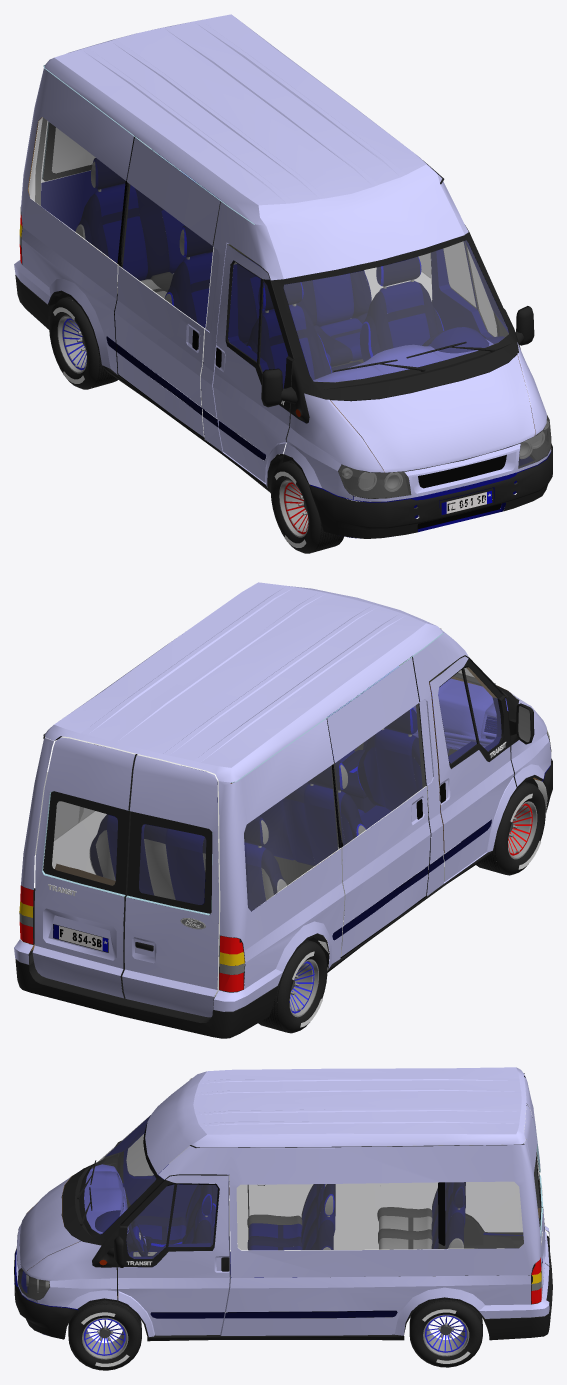
The model's file is che2_d.glb.
3 renders of one model, top to bottom at view 1: azimuth 30°, elevation 25°; view 2: azimuth 150°, elevation 25°; view 3: azimuth 270°, elevation 25°, orthographic. The views are drawn at different scales.
Visible parts, largest first — view 1: Modified Ford Transit, Komponenta#1, tire#1 (×2), ske1989, priborka, litjo1 (×2), Komponenta#2, Plaque d'immatriculation; view 2: Modified Ford Transit, Komponenta#1, tire#1 (×2), ske1989, priborka, ford transit minibus, litjo1 (×2), Komponenta#2, Plaque d'immatriculation; view 3: Modified Ford Transit, ford transit minibus, tire#1 (×2), Komponenta#1, priborka, ske1989, litjo1 (×2), Komponenta#2, rul.
Part boxes in pixels (<box>): Modified Ford Transit: <box>14,14,552,538</box>; Komponenta#1: <box>164,225,443,366</box>; tire#1 (×2): <box>49,296,343,553</box>; ske1989: <box>246,279,331,388</box>; priborka: <box>304,327,504,422</box>; litjo1 (×2): <box>57,315,308,537</box>; Komponenta#2: <box>62,318,308,534</box>; Plaque d'immatriculation: <box>441,490,492,515</box>; Modified Ford Transit: <box>14,582,552,1038</box>; Komponenta#1: <box>217,746,366,865</box>; tire#1 (×2): <box>258,782,545,1033</box>; ske1989: <box>357,707,441,814</box>; priborka: <box>341,666,508,829</box>; ford transit minibus: <box>21,738,94,889</box>; litjo1 (×2): <box>289,801,537,1017</box>; Komponenta#2: <box>289,803,532,1013</box>; Plaque d'immatriculation: <box>53,924,108,952</box>; Modified Ford Transit: <box>14,1067,552,1341</box>; ford transit minibus: <box>158,1140,540,1277</box>; tire#1 (×2): <box>68,1299,482,1370</box>; Komponenta#1: <box>138,1184,335,1277</box>; priborka: <box>84,1164,231,1277</box>; ske1989: <box>131,1184,217,1251</box>; litjo1 (×2): <box>82,1314,469,1359</box>; Komponenta#2: <box>84,1315,466,1355</box>; rul: <box>126,1219,147,1256</box>.
Size of the model in its own units: 2.25 by 2.35 by 5.02.
Materials: 55 (6 with a texture image).
